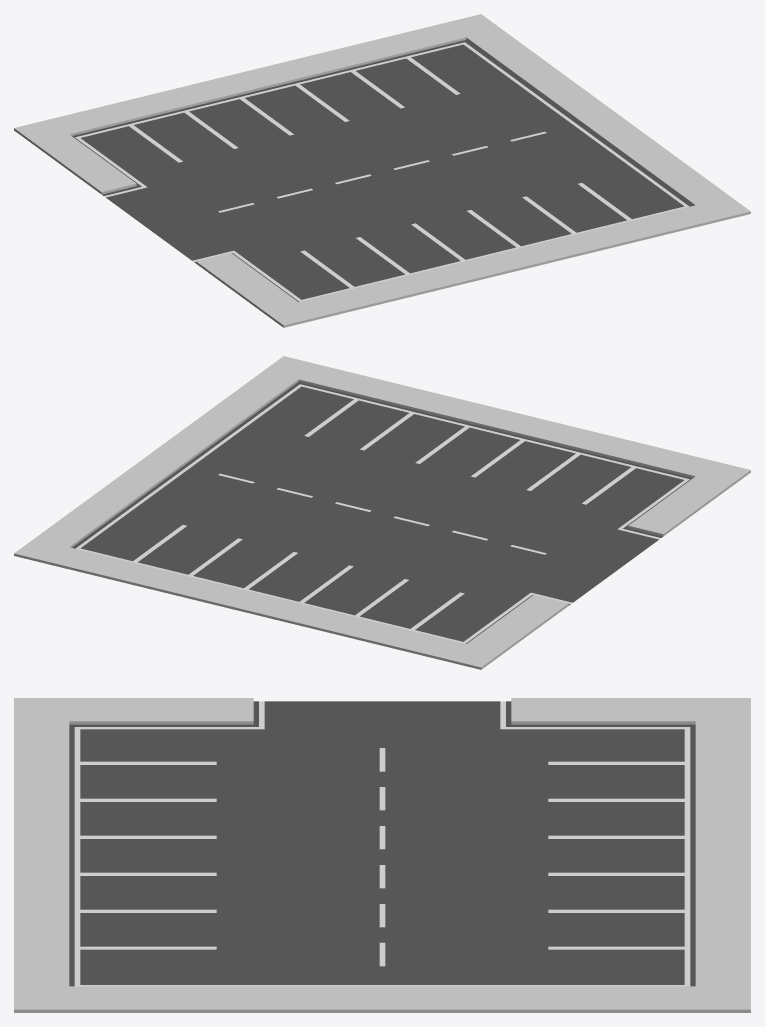
Rendered from SPW_Urban_Road Parking Lot Small.gltf.
3 renders of one model, top to bottom at view 1: azimuth 30°, elevation 25°; view 2: azimuth 150°, elevation 25°; view 3: azimuth 270°, elevation 25°, orthographic. The views are drawn at different scales.
Visible parts, largest first — view 1: SPW_Urban_Road_Parking_Lot_Small; view 2: SPW_Urban_Road_Parking_Lot_Small; view 3: SPW_Urban_Road_Parking_Lot_Small.
Boxes of the visible parts, x1,y1,x2,y2 form: SPW_Urban_Road_Parking_Lot_Small: (14, 14, 750, 327); SPW_Urban_Road_Parking_Lot_Small: (14, 356, 750, 669); SPW_Urban_Road_Parking_Lot_Small: (14, 698, 750, 1012).
Bounding box in the file's own units: 1575 × 7.87 × 1575.
Materials: 1 (1 with a texture image).
